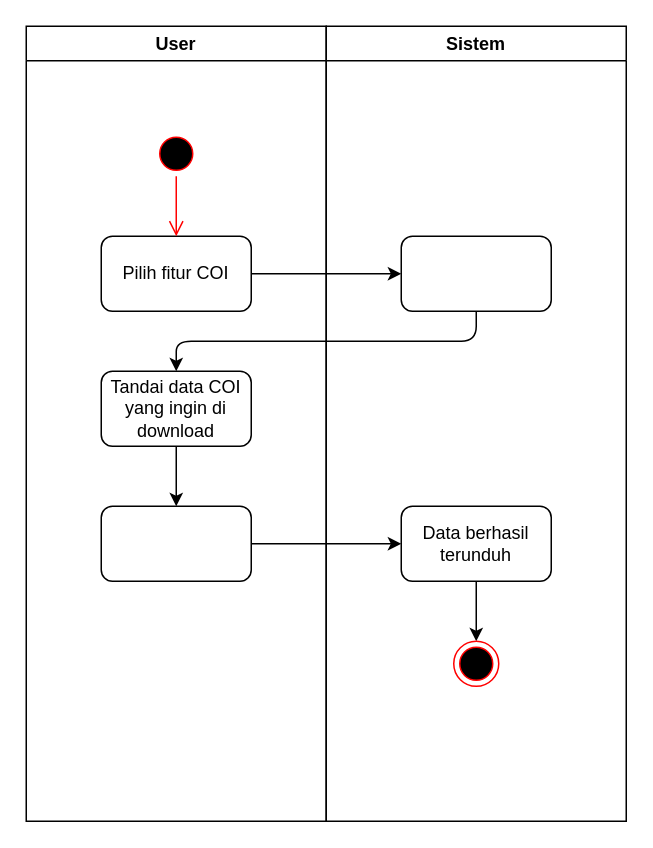
Some shapes in this 653 by 848 pixel diagram are drawn without their labels. Here are the shapes that lost their labels. From the top down, the centre of each, then its label:
At (x=475, y=273): "Menampilkan halaman COI".
At (x=175, y=543): "Pilih tombol download file COI".
